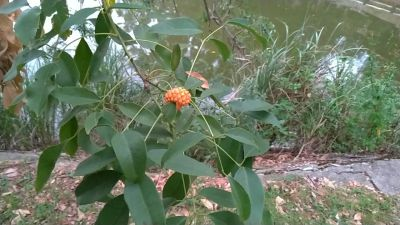eggs: (163, 83, 191, 107)
